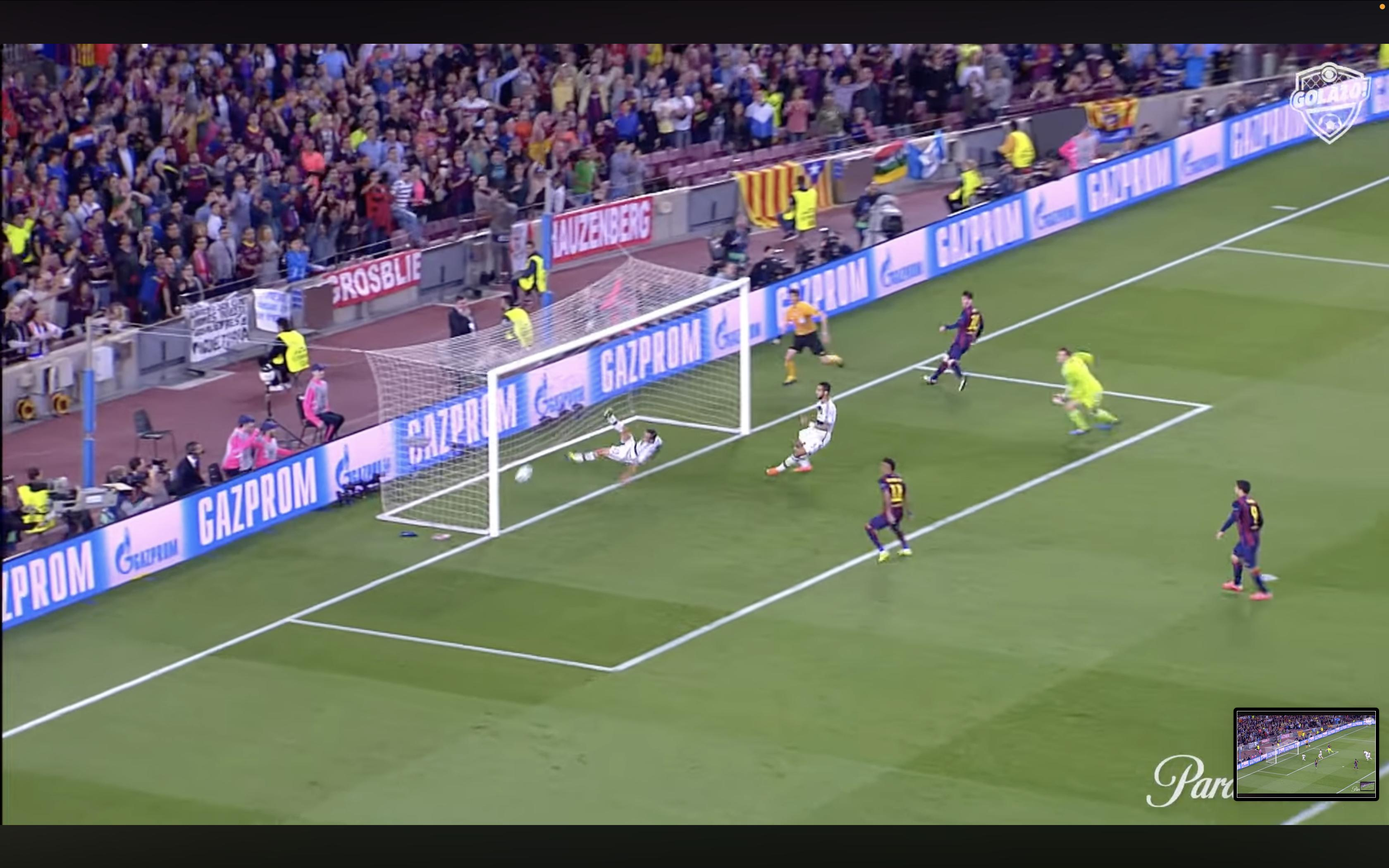ball: (515, 464, 533, 483)
goalkeeper: (1052, 348, 1119, 435)
player: (567, 410, 663, 482), (766, 382, 837, 476), (1216, 480, 1271, 599), (924, 291, 984, 391), (865, 458, 912, 563)
referee: (783, 289, 843, 385)
